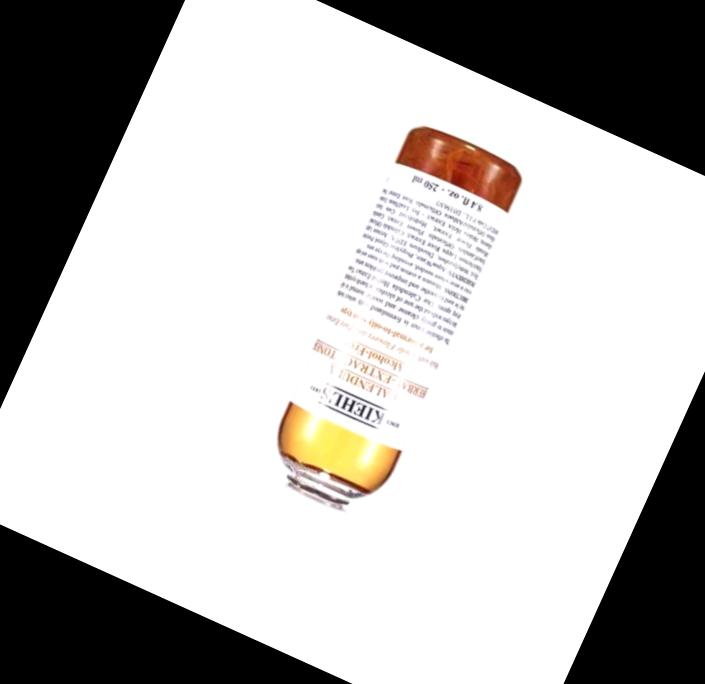cosmetic: (222, 117, 527, 596)
